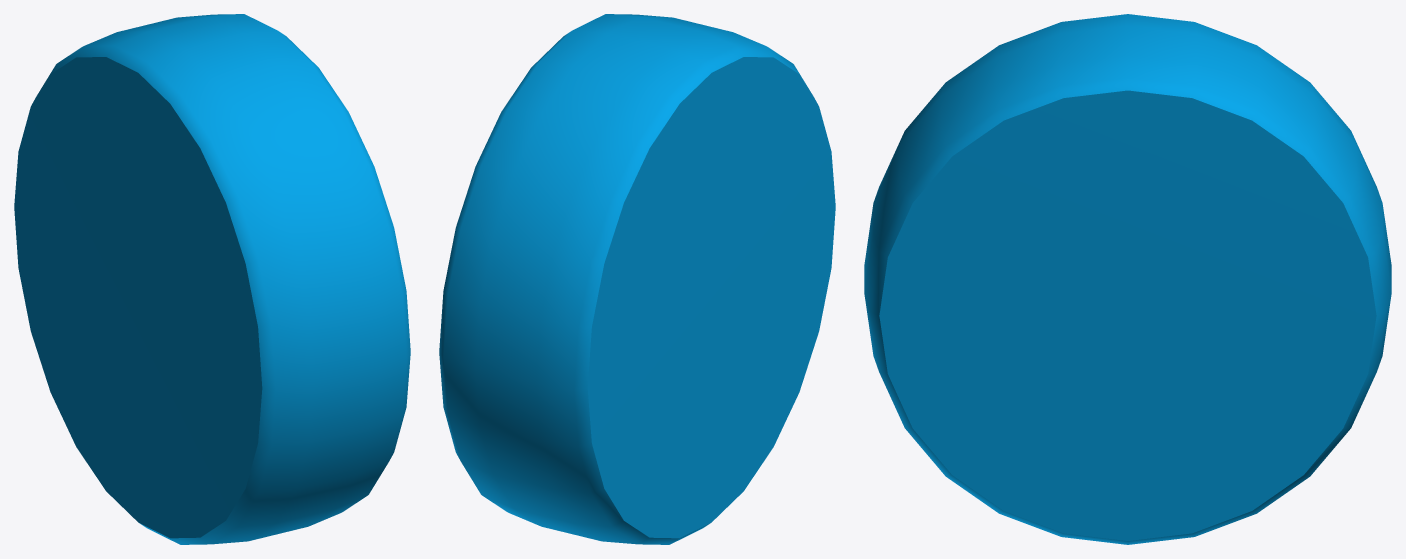
File: Tire_Collider.fbx
3 renders of one model, left to right at view 1: azimuth 30°, elevation 25°; view 2: azimuth 150°, elevation 25°; view 3: azimuth 270°, elevation 25°, orthographic.
Visible parts, largest first — view 1: Tire_Collider_01; view 2: Tire_Collider_01; view 3: Tire_Collider_01.
Part boxes in pixels (box(x1,y1,x2,y2)): Tire_Collider_01: box(14, 14, 410, 544); Tire_Collider_01: box(439, 14, 835, 544); Tire_Collider_01: box(864, 14, 1391, 544).
Size of the model in its own units: 22.73 by 69.42 by 69.42.
